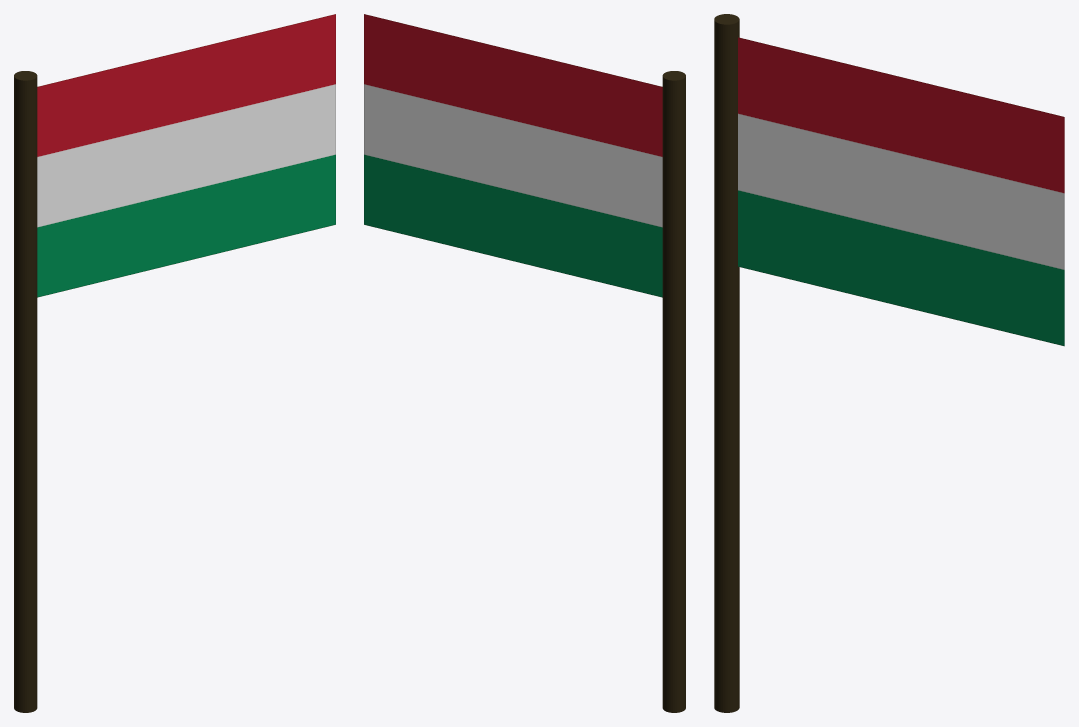
Rendered from Hungary.glb.
3 renders of one model, left to right at view 1: azimuth 30°, elevation 25°; view 2: azimuth 150°, elevation 25°; view 3: azimuth 330°, elevation 25°, orthographic. The views are drawn at different scales.
Parts seen in each view (by area): view 1: Plane, Cylinder; view 2: Plane, Cylinder; view 3: Plane, Cylinder.
Part boxes in pixels (x1,y1,x2,y2): Plane: (37, 14, 335, 297); Cylinder: (14, 71, 37, 712); Plane: (364, 14, 662, 297); Cylinder: (662, 71, 685, 712); Plane: (738, 37, 1064, 346); Cylinder: (714, 14, 739, 712).
Bounding box in the file's own units: 3.18 × 6 × 0.2.
2 materials, 1 textured.
